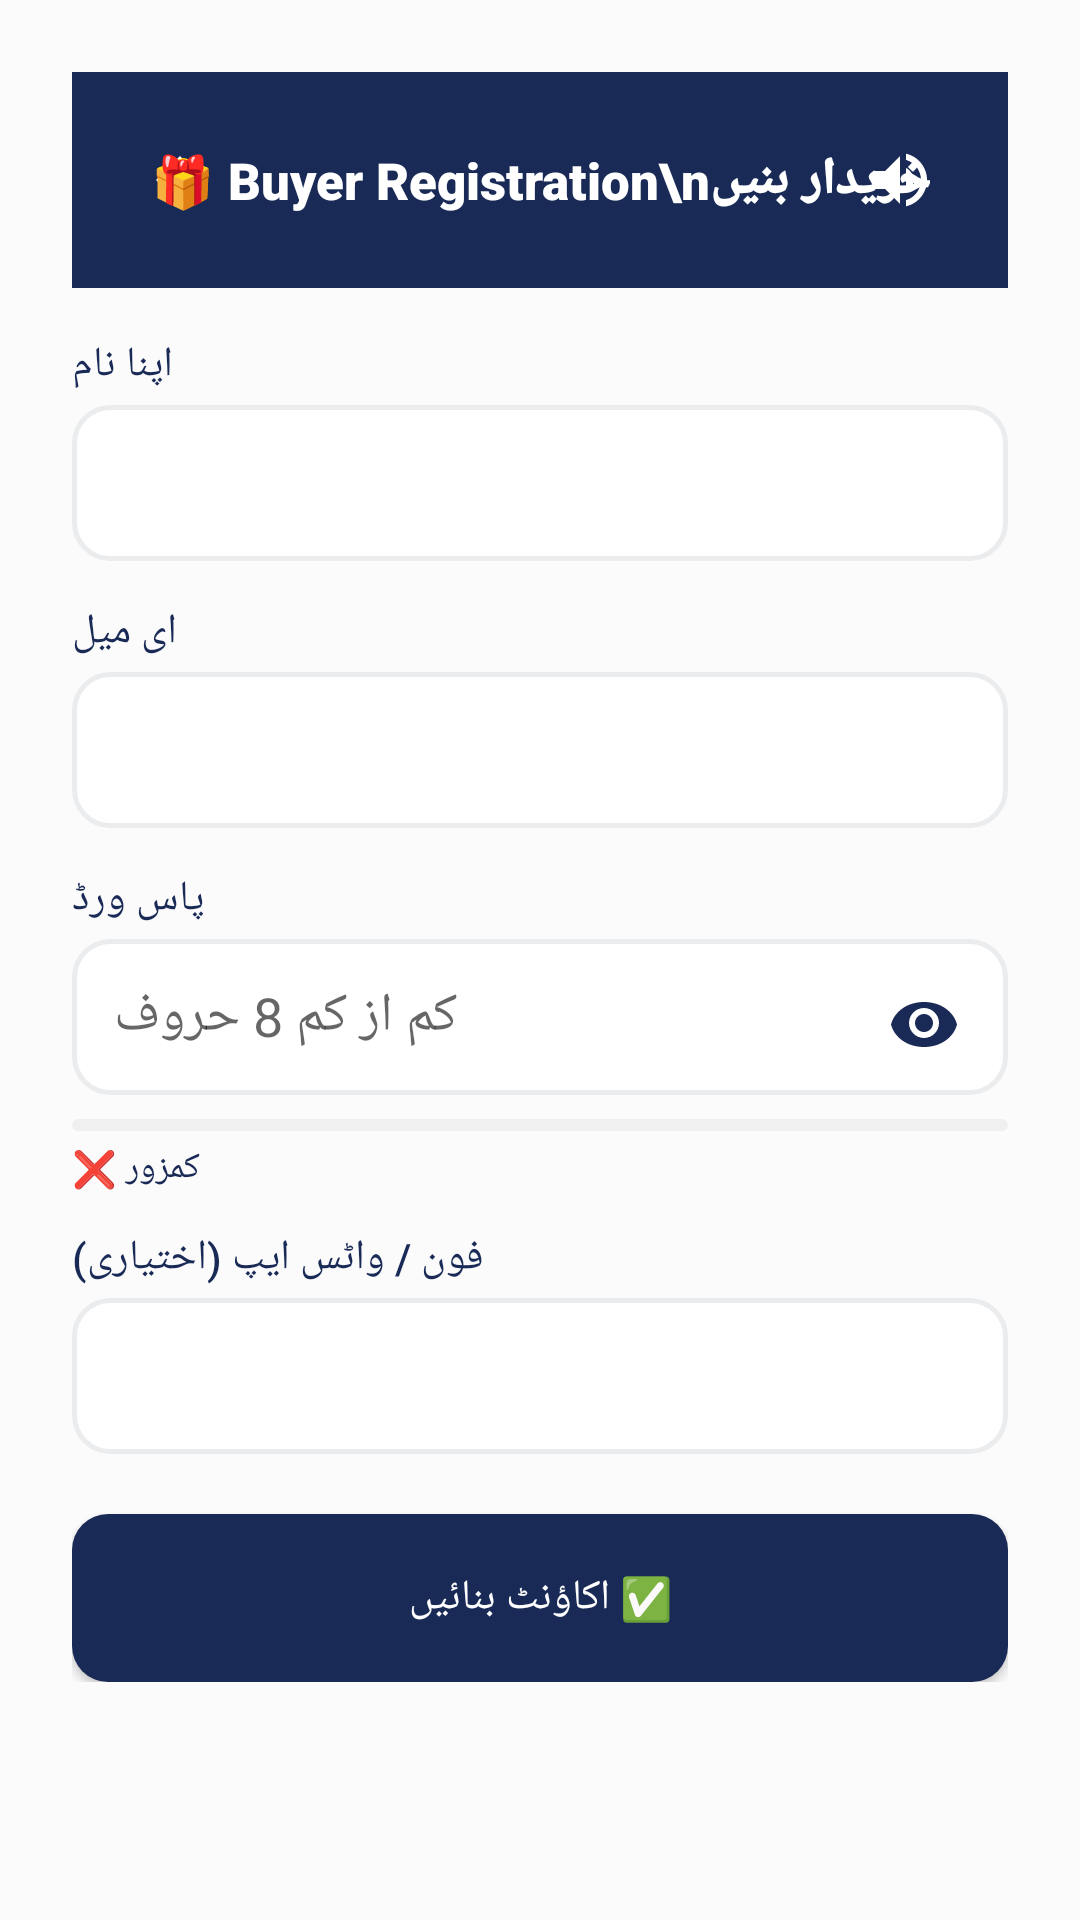

Icons on this 1080 × 1920 Android screen, each with the point to tap as [x,y]:
Toggle Password Visibility: [924,1024]
